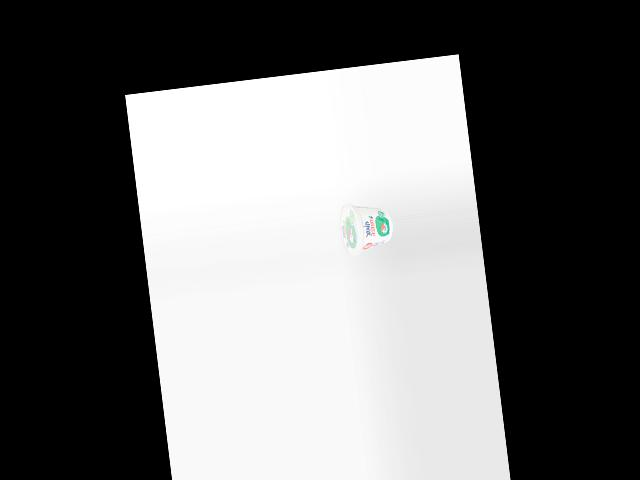cotage: (336, 197, 395, 258)
